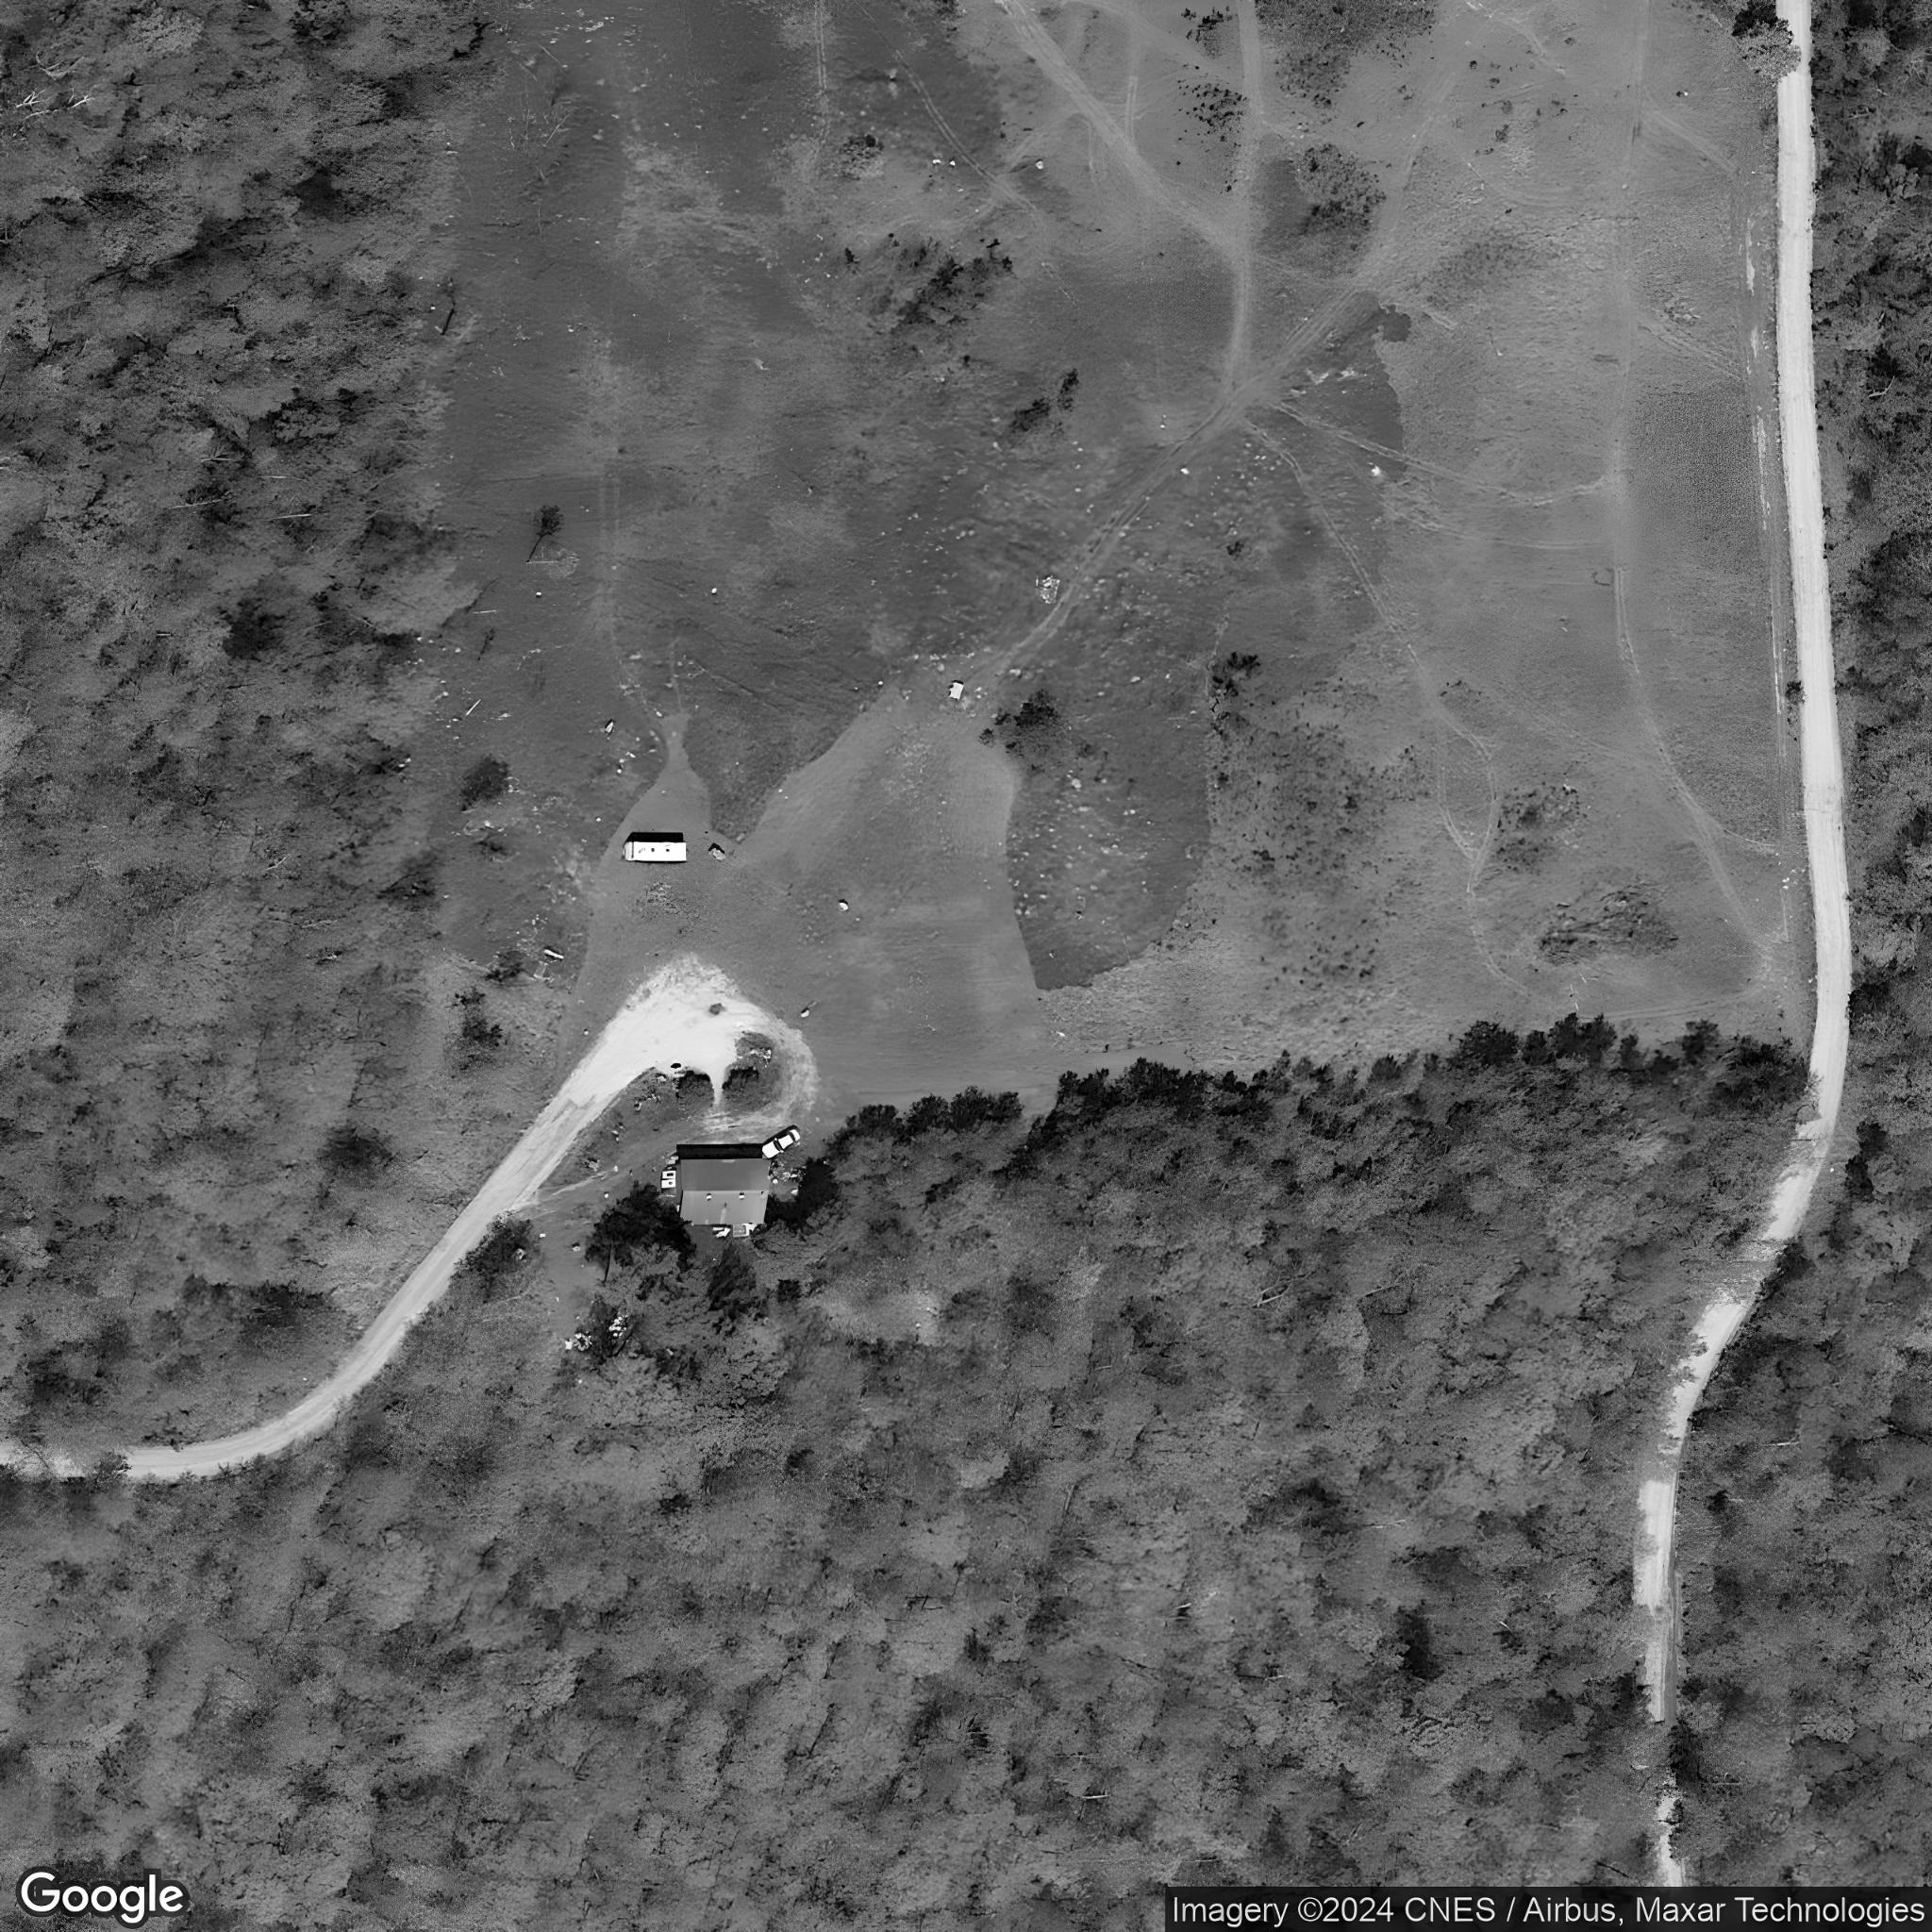House: (678, 1157, 770, 1226)
Trailer: (623, 840, 688, 863)
